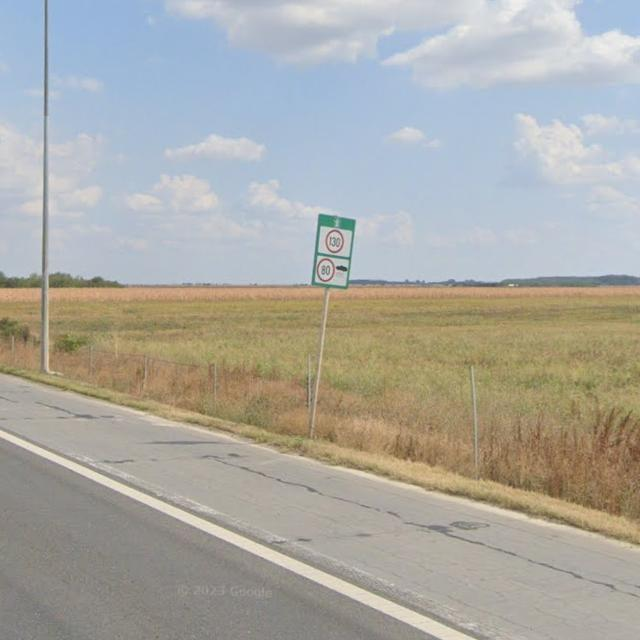forb_speed_over_80: (317, 258, 335, 282)
